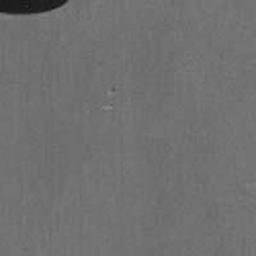Punching: (0, 0, 67, 15)
